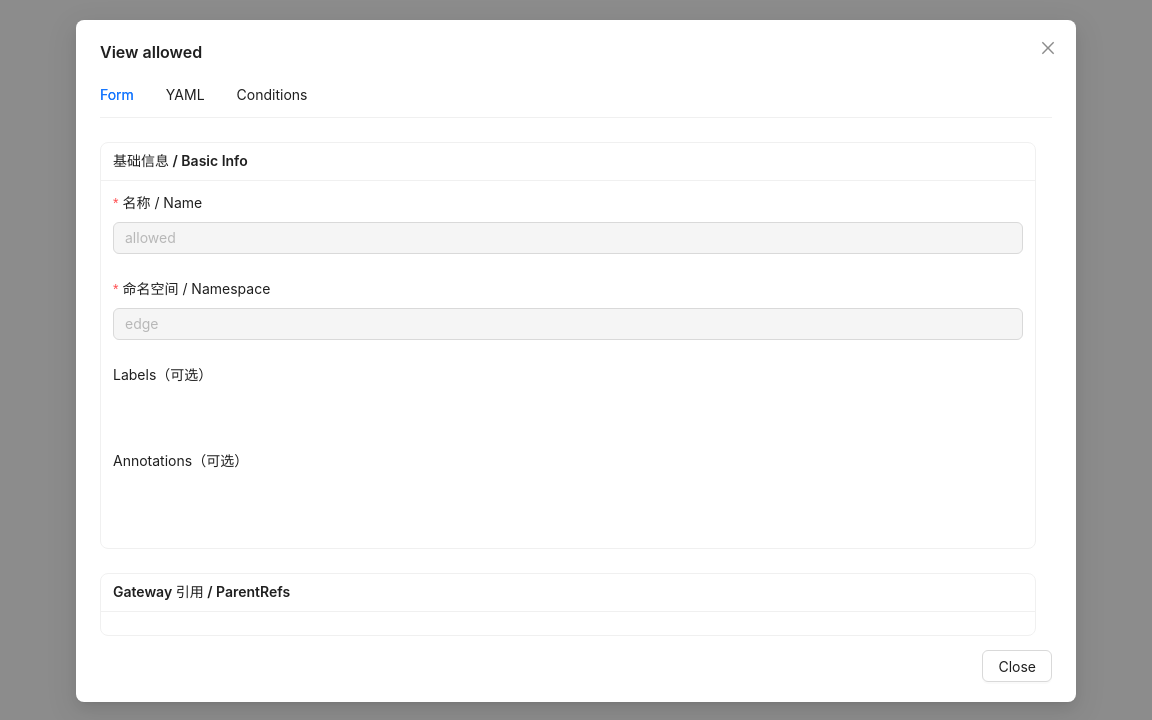
Test: route Editor mutation paths › shows processed ReferenceGrant resolution in HTTPRoute details
Click the tab with test id "editor-conditions-tab" at point(272, 95), box [237,84,308,106]
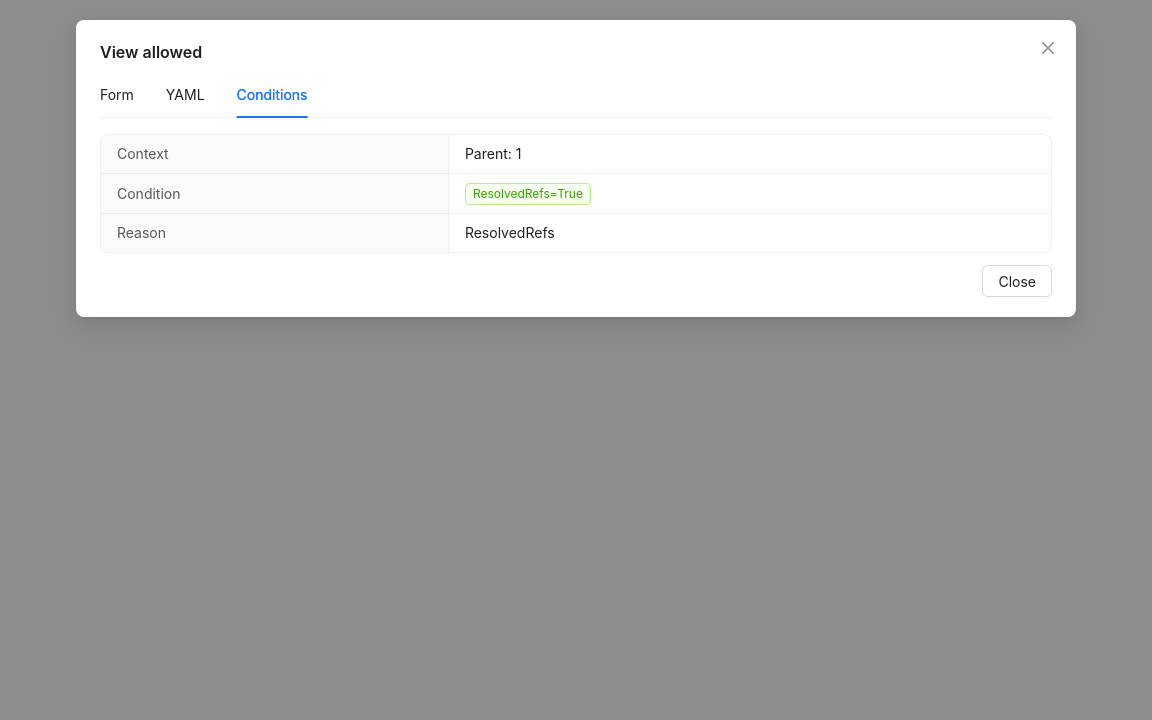
Expected: the text with test id "route-ref-granted" reads "ResolvedRefs=True", [473,186,583,201]
